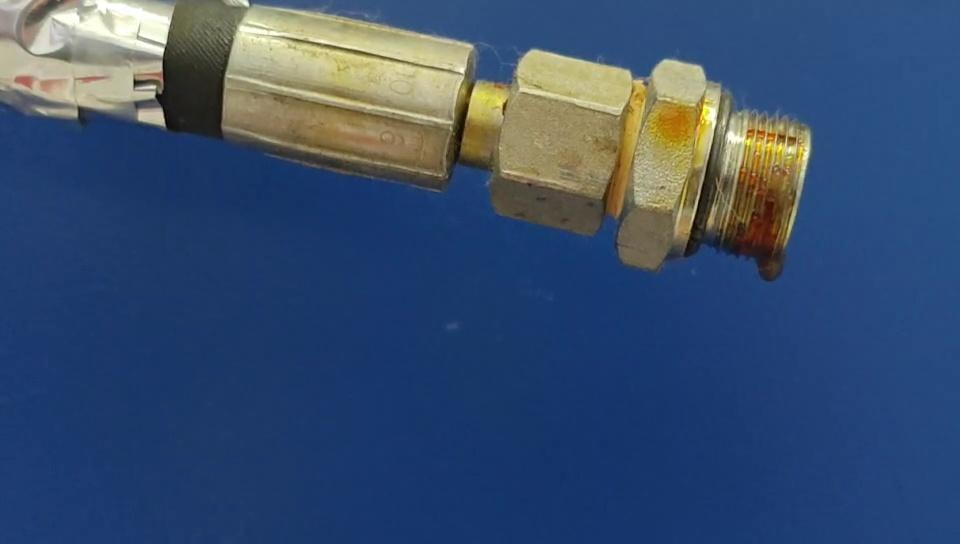water drop: (754, 256, 784, 282)
